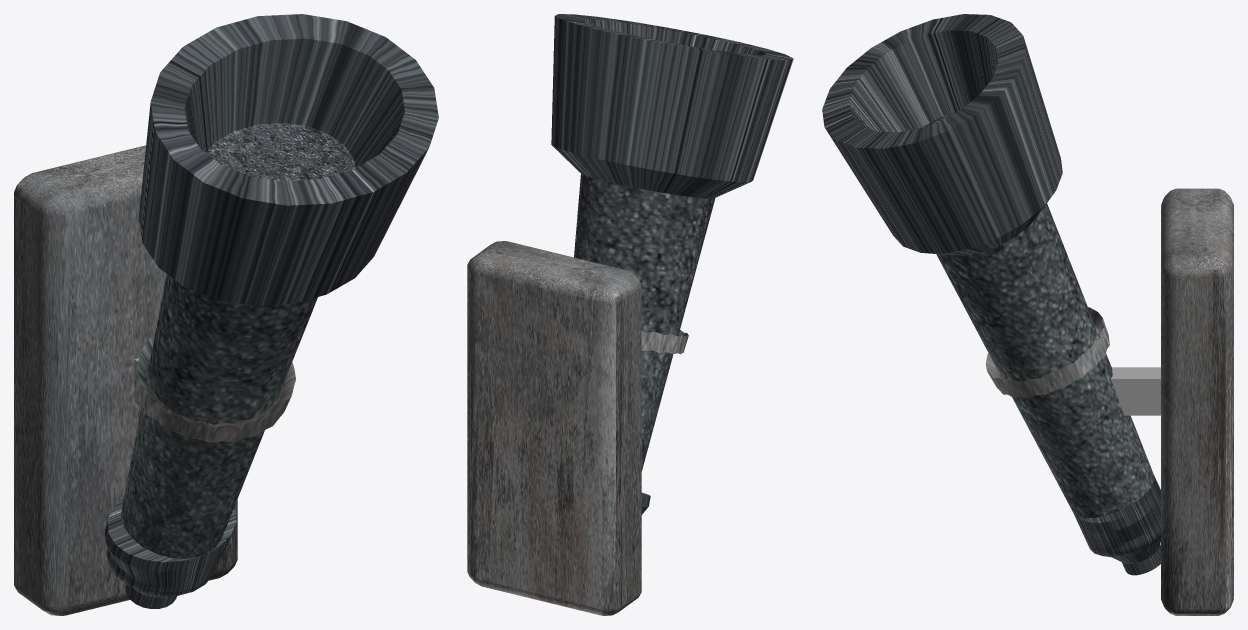
Rendered from torch.fbx.
3 renders of one model, left to right at view 1: azimuth 30°, elevation 25°; view 2: azimuth 150°, elevation 25°; view 3: azimuth 270°, elevation 25°, orthographic. The views are drawn at different scales.
Visible parts, largest first — view 1: pCylinder1, pCube2; view 2: pCube2, pCylinder1; view 3: pCylinder1, pCube2, pCube1.
Part boxes in pixels (x1,y1,x2,y2): pCylinder1: (104,14,438,608); pCube2: (14,145,237,615); pCube2: (467,241,641,615); pCylinder1: (551,14,793,514); pCylinder1: (822,14,1160,575); pCube2: (1161,188,1233,615); pCube1: (1111,367,1160,415).
Bounding box in the file's own units: 3.63 × 8.22 × 5.66.
4 materials, 3 textured.
